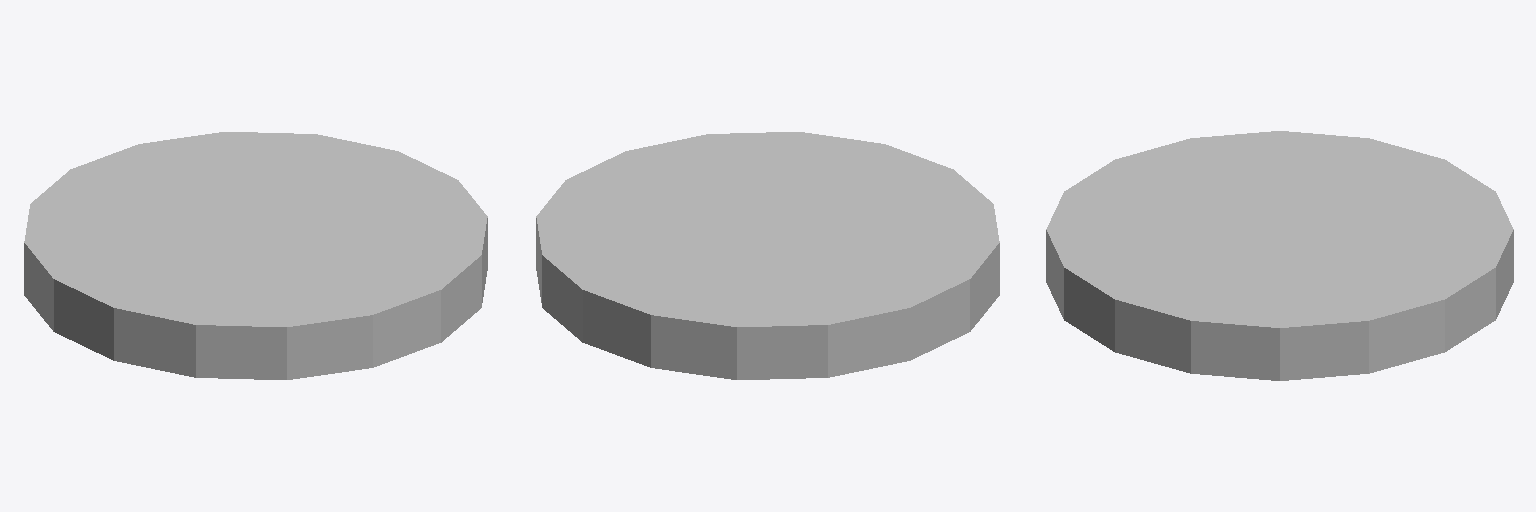
File: a_col.obj
The picture shows the model from 3 angles: view 1: azimuth 30°, elevation 25°; view 2: azimuth 150°, elevation 25°; view 3: azimuth 270°, elevation 25°; orthographic projection.
Visible parts, largest first — view 1: Cylinder; view 2: Cylinder; view 3: Cylinder.
Boxes of the visible parts, x1,y1,x2,y2 form: Cylinder: [24, 132, 487, 379]; Cylinder: [536, 132, 999, 379]; Cylinder: [1046, 131, 1513, 380].
Size of the model in its own units: 0.5 by 0.0625 by 0.5.